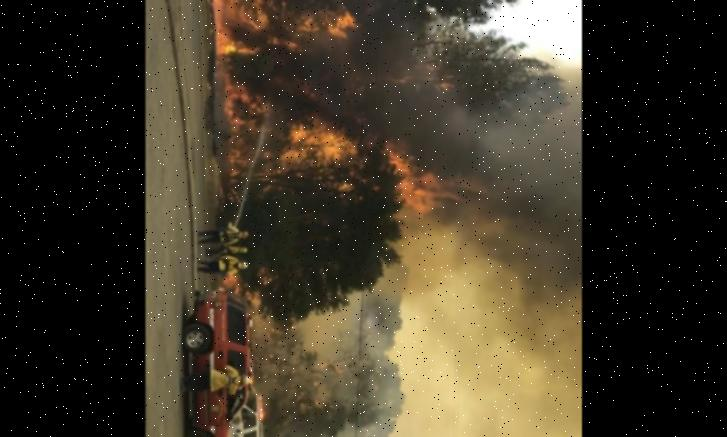fire: (214, 76, 466, 215), (197, 0, 357, 59)
